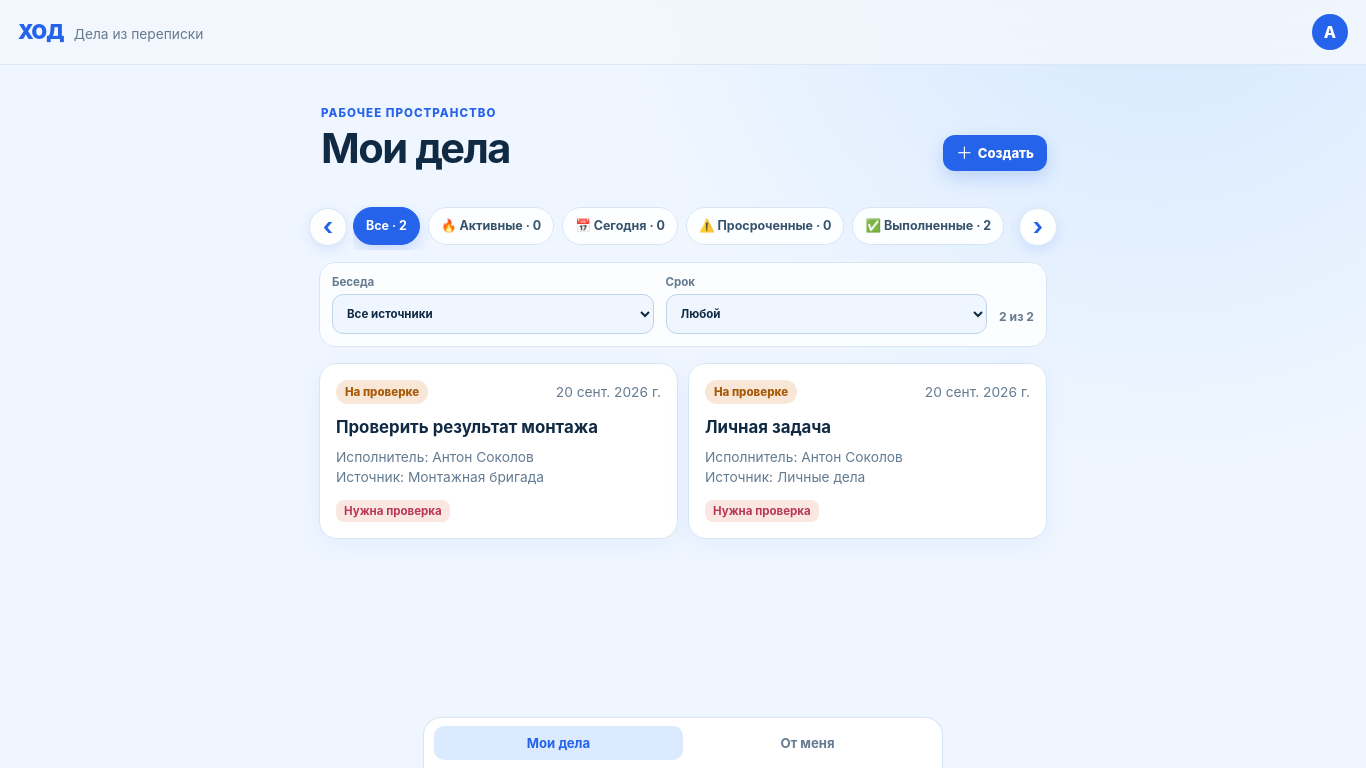
it: Mini App › filters actions by their source chat and exposes desktop scroll controls
Check: the button named "Прокрутить фильтры влево" is shown, box [309,208,347,246]
Check: the button named "Прокрутить фильтры вправо" is shown, box [1019,208,1057,246]
Select "Личные дела" in the dropdown named "Фильтр по беседе" at [493, 314], box [332,294,654,334]
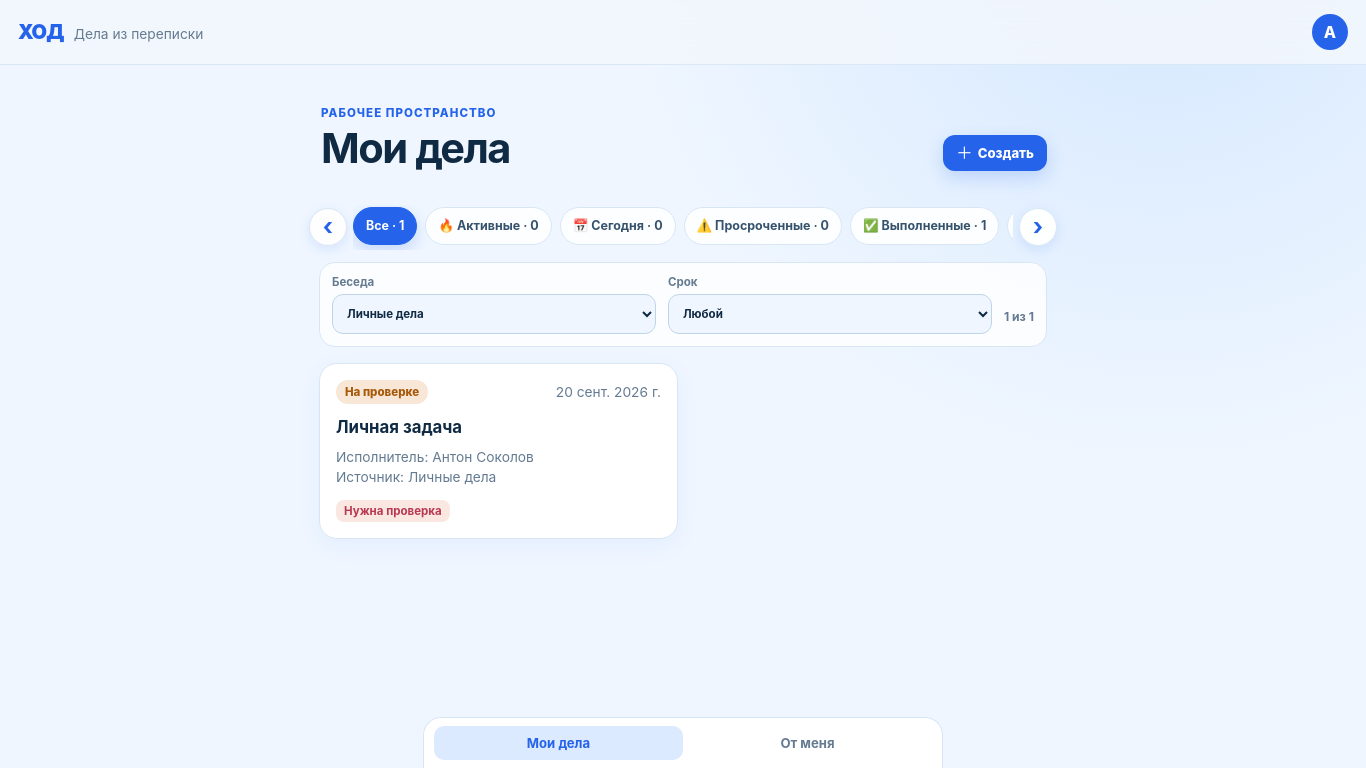
Check: the heading "Личная задача" is shown, box [336,417,462,437]
Check: the link "Проверить результат монтажа" is gone
Check: the text "1 из 1" is shown, box [1004,309,1034,334]
